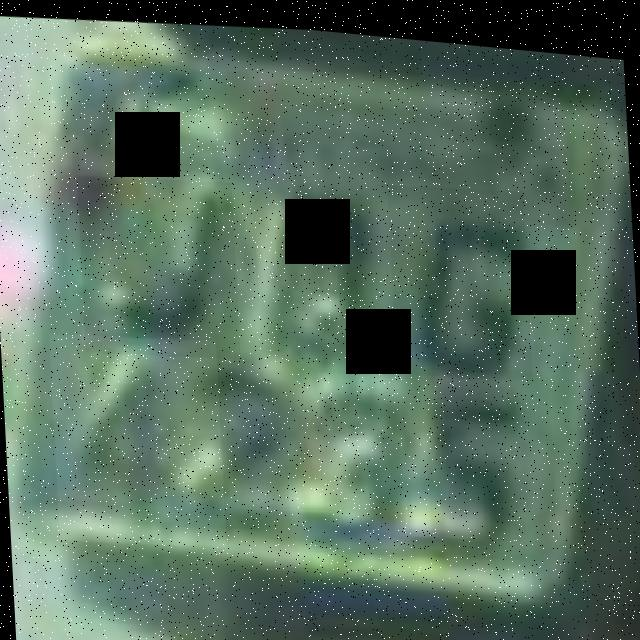2: (152, 336, 346, 555)
4: (49, 324, 227, 551)
5: (401, 351, 558, 558)
G: (387, 170, 533, 376)
J: (76, 166, 240, 363)
